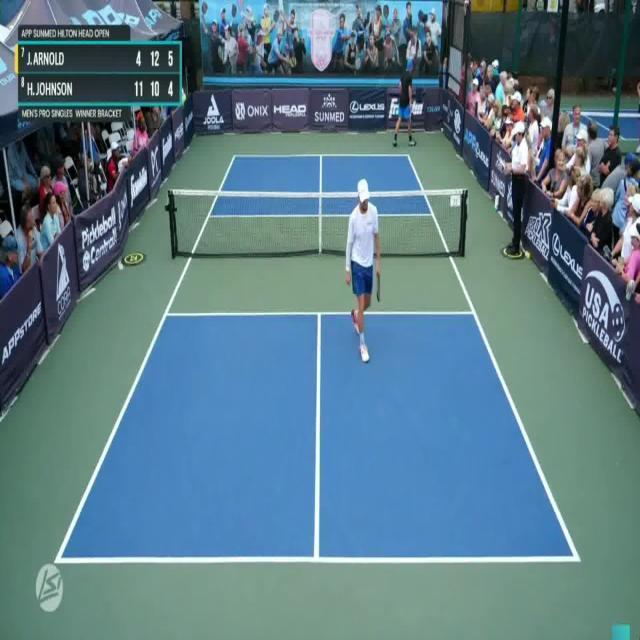Court: (60, 156, 579, 556)
ball: (438, 121, 446, 137)
